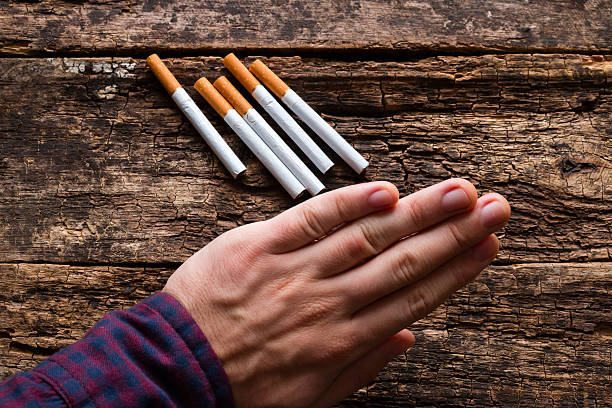cigarette: (248, 59, 370, 176), (193, 76, 306, 201), (222, 53, 335, 176), (212, 76, 326, 196), (145, 53, 248, 181)
